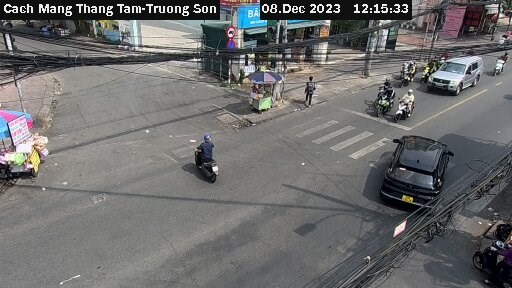car: (382, 133, 454, 208), (429, 55, 485, 96)
motorbike: (185, 132, 229, 185), (473, 231, 512, 284), (373, 86, 401, 121), (394, 93, 425, 123), (486, 51, 509, 77)
